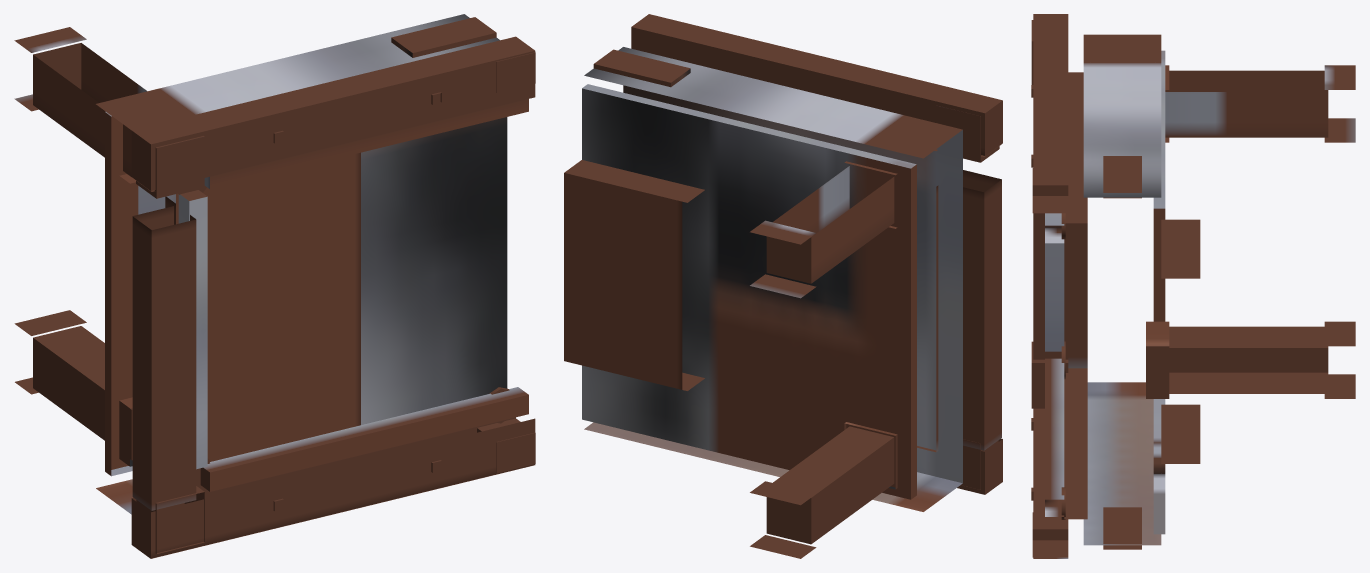
File: section-0.obj
The picture shows the model from 3 angles, left to right: view 1: azimuth 30°, elevation 25°; view 2: azimuth 150°, elevation 25°; view 3: azimuth 270°, elevation 25°; orthographic projection. The views are drawn at different scales.
Bounding box in the file's own units: 1.03 × 1.07 × 0.835.
